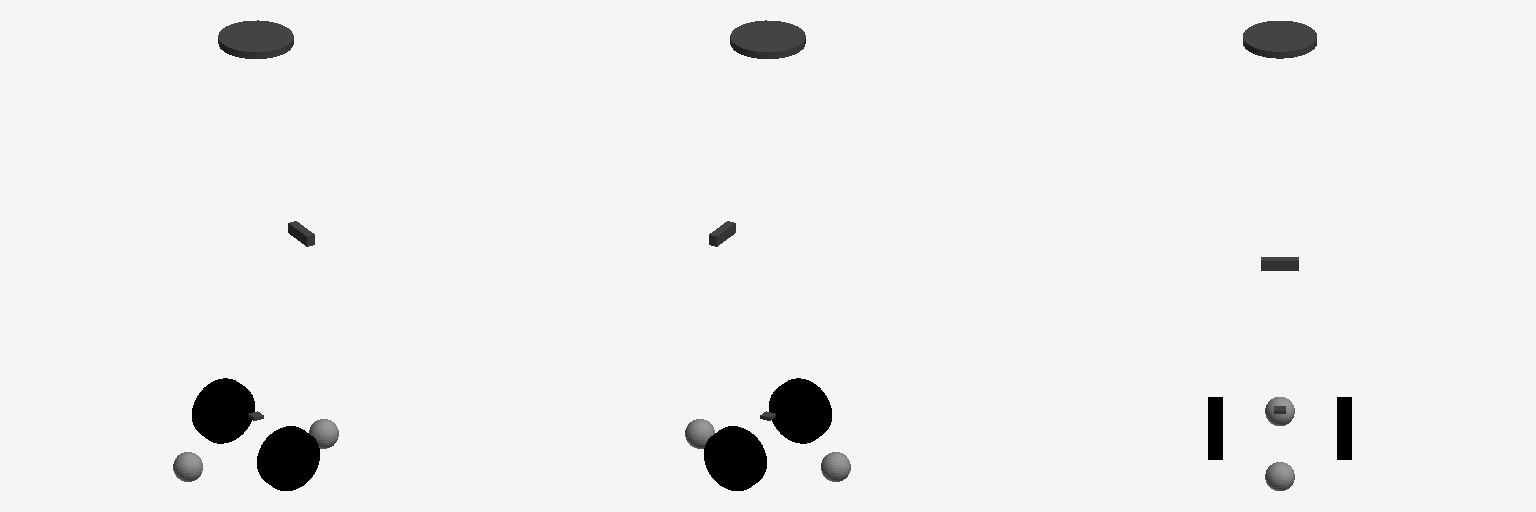
robot.urdf — amiibot:
<?xml version="1.0" ?>
<!-- =================================================================================== -->
<!-- |    This document was autogenerated by xacro from /home/gr/amiibot_ws/src/amiibot_description/urdf/amiibot_isaac.urdf.xacro | -->
<!-- |    EDITING THIS FILE BY HAND IS NOT RECOMMENDED                                 | -->
<!-- =================================================================================== -->
<!--
  URDF for Isaac Sim 5.1.0 — standalone, no Gazebo plugins, no ros2_control.
  Mesh paths use $(find ...) so xacro resolves them to absolute paths on export.
  amiibot_base.xacro stays untouched (uses package:// for Ignition).

  To export:
    source install/setup.bash
    bash scripts/export_isaac_urdf.sh
-->
<robot name="amiibot">
  <!-- LINKS -->
  <link name="base_footprint"/>
  <link name="base_link">
    <visual>
      <origin rpy="1.5708 0 1.5708" xyz="0 0 0"/>
      <geometry>
        <mesh filename="/home/gr/amiibot_ws/install/amiibot_description/share/amiibot_description/meshes/base_link_300.stl" scale="0.001 0.001 0.001"/>
      </geometry>
      <material name="white">
        <color rgba="1.0 1.0 1.0 1.0"/>
      </material>
    </visual>
    <collision>
      <origin rpy="0 0 0" xyz="0 0 0.20"/>
      <geometry>
        <box size="0.45 0.35 0.28"/>
      </geometry>
    </collision>
    <inertial>
      <origin rpy="0 0 0" xyz="0 0 0"/>
      <mass value="30.0"/>
      <inertia ixx="0.637399" ixy="-0.005718" ixz="0.005136" iyy="1.043697" iyz="0.010418" izz="0.711315"/>
    </inertial>
  </link>
  <link name="left_wheel">
    <visual>
      <origin rpy="1.5708 0 0" xyz="0 0 0"/>
      <geometry>
        <cylinder length="0.04" radius="0.0855"/>
      </geometry>
      <material name="black">
        <color rgba="0.0 0.0 0.0 1.0"/>
      </material>
    </visual>
    <collision>
      <origin rpy="1.5708 0 0" xyz="0 0 0"/>
      <geometry>
        <cylinder length="0.04" radius="0.0855"/>
      </geometry>
    </collision>
    <inertial>
      <origin rpy="0 0 0" xyz="0 0 0"/>
      <mass value="1.0"/>
      <inertia ixx="0.0116" ixy="0" ixz="0" iyy="0.0063" iyz="0" izz="0.0063"/>
    </inertial>
  </link>
  <link name="right_wheel">
    <visual>
      <origin rpy="1.5708 0 0" xyz="0 0 0"/>
      <geometry>
        <cylinder length="0.04" radius="0.0855"/>
      </geometry>
      <material name="black">
        <color rgba="0.0 0.0 0.0 1.0"/>
      </material>
    </visual>
    <collision>
      <origin rpy="1.5708 0 0" xyz="0 0 0"/>
      <geometry>
        <cylinder length="0.04" radius="0.0855"/>
      </geometry>
    </collision>
    <inertial>
      <origin rpy="0 0 0" xyz="0 0 0"/>
      <mass value="1.0"/>
      <inertia ixx="0.0116" ixy="0" ixz="0" iyy="0.0063" iyz="0" izz="0.0063"/>
    </inertial>
  </link>
  <link name="front_caster_wheel">
    <visual>
      <origin rpy="0 0 0" xyz="0 0 0"/>
      <geometry>
        <sphere radius="0.04"/>
      </geometry>
      <material name="gray">
        <color rgba="0.6 0.6 0.6 1.0"/>
      </material>
    </visual>
    <collision>
      <origin rpy="0 0 0" xyz="0 0 0"/>
      <geometry>
        <sphere radius="0.04"/>
      </geometry>
    </collision>
    <inertial>
      <origin rpy="0 0 0" xyz="0 0 0"/>
      <mass value="0.2"/>
      <inertia ixx="0.01" ixy="0" ixz="0" iyy="0.01" iyz="0" izz="0.01"/>
    </inertial>
  </link>
  <link name="back_caster_wheel">
    <visual>
      <origin rpy="0 0 0" xyz="0 0 0"/>
      <geometry>
        <sphere radius="0.04"/>
      </geometry>
      <material name="gray">
        <color rgba="0.6 0.6 0.6 1.0"/>
      </material>
    </visual>
    <collision>
      <origin rpy="0 0 0" xyz="0 0 0"/>
      <geometry>
        <sphere radius="0.04"/>
      </geometry>
    </collision>
    <inertial>
      <origin rpy="0 0 0" xyz="0 0 0"/>
      <mass value="0.2"/>
      <inertia ixx="0.01" ixy="0" ixz="0" iyy="0.01" iyz="0" izz="0.01"/>
    </inertial>
  </link>
  <link name="imu">
    <visual>
      <origin rpy="0 0 0" xyz="0 0 0"/>
      <geometry>
        <box size="0.03 0.03 0.01"/>
      </geometry>
      <material name="gray">
        <color rgba="0.3 0.3 0.3 1"/>
      </material>
    </visual>
  </link>
  <link name="laser">
    <visual>
      <origin rpy="1.5708 0 -1.5708" xyz="0 0 -0.025"/>
      <geometry>
        <mesh filename="/home/gr/amiibot_ws/install/amiibot_description/share/amiibot_description/meshes/lidar.stl" scale="0.001 0.001 0.001"/>
      </geometry>
      <material name="black">
        <color rgba="0.1 0.1 0.1 1"/>
      </material>
    </visual>
  </link>
  <link name="microphone">
    <visual>
      <origin rpy="0 0 0" xyz="0 0 0"/>
      <geometry>
        <cylinder length="0.02" radius="0.1"/>
      </geometry>
      <material name="gray">
        <color rgba="0.3 0.3 0.3 1"/>
      </material>
    </visual>
  </link>
  <link name="depth_camera">
    <visual>
      <origin rpy="0 0 0" xyz="0 0 0"/>
      <geometry>
        <box size="0.025 0.1 0.03"/>
      </geometry>
      <material name="gray">
        <color rgba="0.3 0.3 0.3 1"/>
      </material>
    </visual>
  </link>
  <!-- JOINTS -->
  <joint name="base_joint" type="fixed">
    <parent link="base_footprint"/>
    <child link="base_link"/>
    <origin rpy="0 0 0" xyz="0 0 0.04"/>
  </joint>
  <joint name="left_wheel_joint" type="continuous">
    <parent link="base_link"/>
    <child link="left_wheel"/>
    <origin rpy="0 0 0" xyz="0 0.1725 0.0455"/>
    <axis xyz="0 1 0"/>
    <dynamics damping="0.2"/>
  </joint>
  <joint name="right_wheel_joint" type="continuous">
    <parent link="base_link"/>
    <child link="right_wheel"/>
    <origin rpy="0 0 0" xyz="0 -0.1725 0.0455"/>
    <axis xyz="0 1 0"/>
    <dynamics damping="0.2"/>
  </joint>
  <joint name="front_caster_joint" type="fixed">
    <origin rpy="0 0 0" xyz="0.2075 0 0"/>
    <parent link="base_link"/>
    <child link="front_caster_wheel"/>
  </joint>
  <joint name="back_caster_joint" type="fixed">
    <origin rpy="0 0 0" xyz="-0.2075 0 0"/>
    <parent link="base_link"/>
    <child link="back_caster_wheel"/>
  </joint>
  <joint name="imu_joint" type="fixed">
    <parent link="base_link"/>
    <child link="imu"/>
    <origin rpy="0 0 0" xyz="0 0 0.10"/>
  </joint>
  <joint name="laser_joint" type="fixed">
    <parent link="base_link"/>
    <child link="laser"/>
    <origin rpy="0 0 3.14159265" xyz="0.16 0 0.325"/>
  </joint>
  <joint name="microphone_joint" type="fixed">
    <parent link="base_link"/>
    <child link="microphone"/>
    <origin rpy="0 0 0" xyz="0 0 1.2"/>
  </joint>
  <joint name="depth_camera_joint" type="fixed">
    <parent link="base_link"/>
    <child link="depth_camera"/>
    <origin rpy="0 0 0" xyz="0.14 0 0.6"/>
  </joint>
  <link name="depth_camera_optical_frame"/>
  <joint name="depth_camera_optical_joint" type="fixed">
    <parent link="depth_camera"/>
    <child link="depth_camera_optical_frame"/>
    <origin rpy="0 0 0" xyz="0 0 0"/>
  </joint>
</robot>

--- Render facts (derived) ---
3 views of the same robot in one strip: view 1: azimuth 30°, elevation 25°; view 2: azimuth 150°, elevation 25°; view 3: azimuth 270°, elevation 25° (orthographic).
Model amiibot with 11 links and 10 joints (2 continuous, 8 fixed), rooted at base_footprint, posed all joints at 0.
Links seen in each view (by area): view 1: right_wheel, left_wheel, microphone, back_caster_wheel, front_caster_wheel; view 2: left_wheel, right_wheel, microphone, back_caster_wheel, front_caster_wheel; view 3: microphone, left_wheel, right_wheel, front_caster_wheel, back_caster_wheel, depth_camera.
Boxes of the visible links, box(x1,y1,x2,y2) form: right_wheel: box(257, 426, 319, 490); left_wheel: box(192, 378, 254, 443); microphone: box(218, 20, 293, 58); back_caster_wheel: box(173, 452, 202, 481); front_caster_wheel: box(309, 419, 338, 448); left_wheel: box(704, 426, 766, 490); right_wheel: box(769, 378, 831, 443); microphone: box(730, 20, 805, 58); back_caster_wheel: box(821, 452, 850, 481); front_caster_wheel: box(685, 419, 714, 448); microphone: box(1243, 21, 1316, 58); left_wheel: box(1337, 397, 1351, 459); right_wheel: box(1208, 397, 1222, 459); front_caster_wheel: box(1265, 462, 1294, 490); back_caster_wheel: box(1265, 397, 1294, 425); depth_camera: box(1261, 257, 1298, 270).
Bounding box of the posed robot: 0.495 × 0.385 × 1.25 m (x, y, z).
Geometry: only primitive shapes (box / cylinder / sphere) drawn; not drawn: 2 mesh visuals (reference in a form the renderer does not follow).
